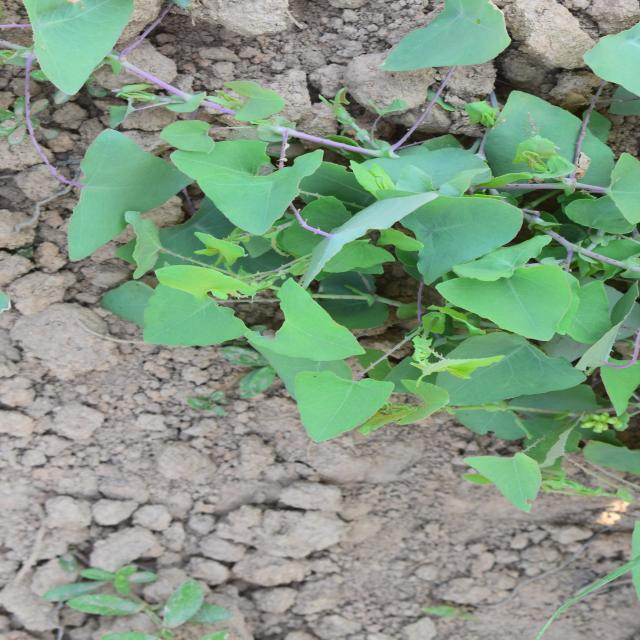Asiatic_Smartweed: (281, 323, 480, 590), (378, 42, 535, 342), (199, 244, 373, 416), (551, 352, 639, 525)
